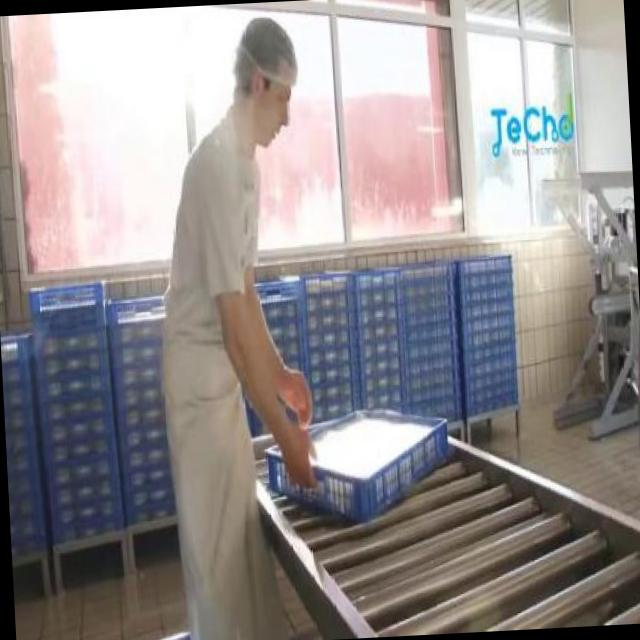hairnet: (240, 12, 300, 89)
